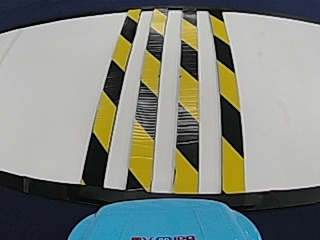bump: (80, 16, 250, 188)
